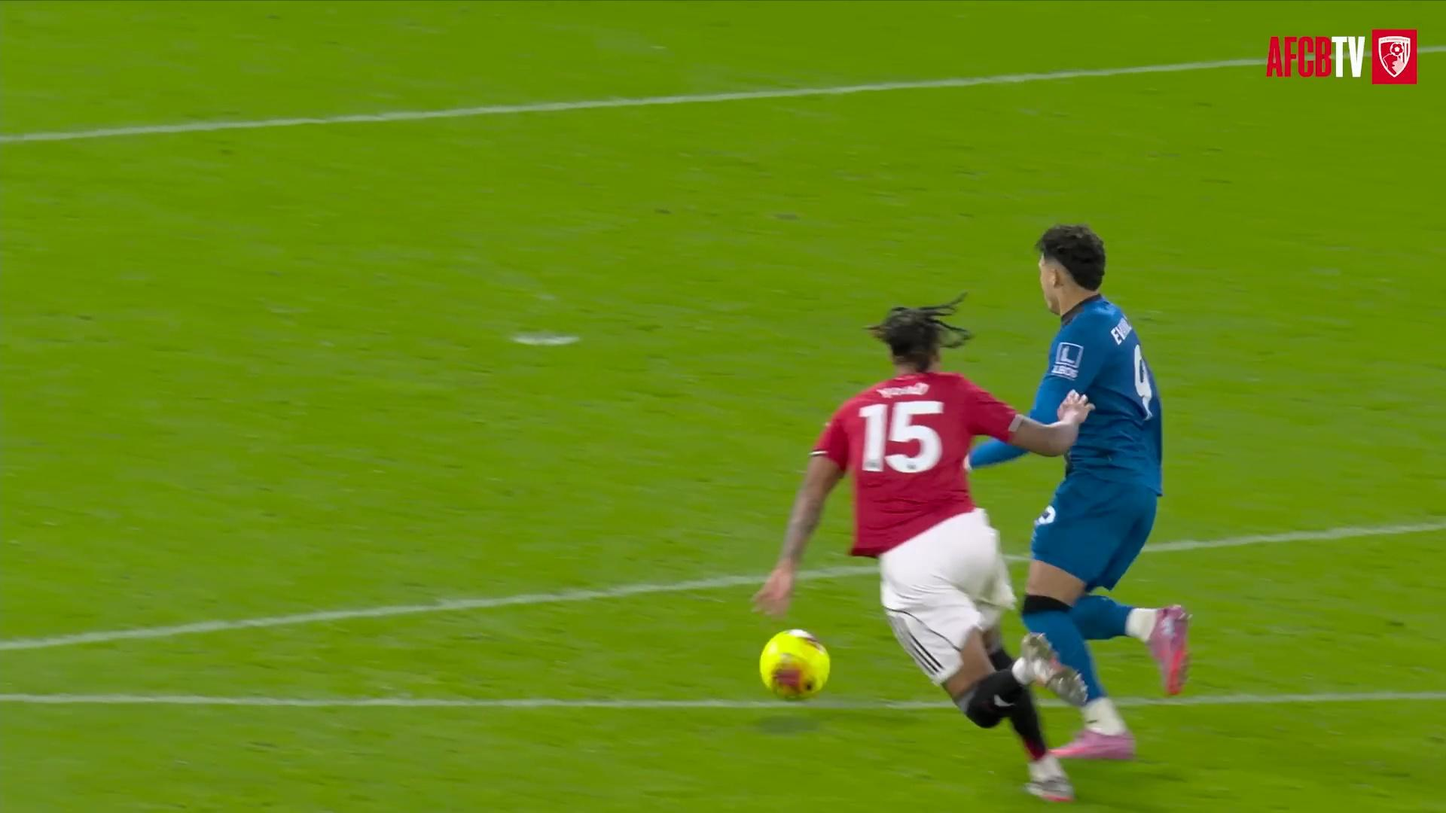football: (760, 629, 830, 699)
player: (755, 300, 1090, 800), (1022, 227, 1188, 759)
